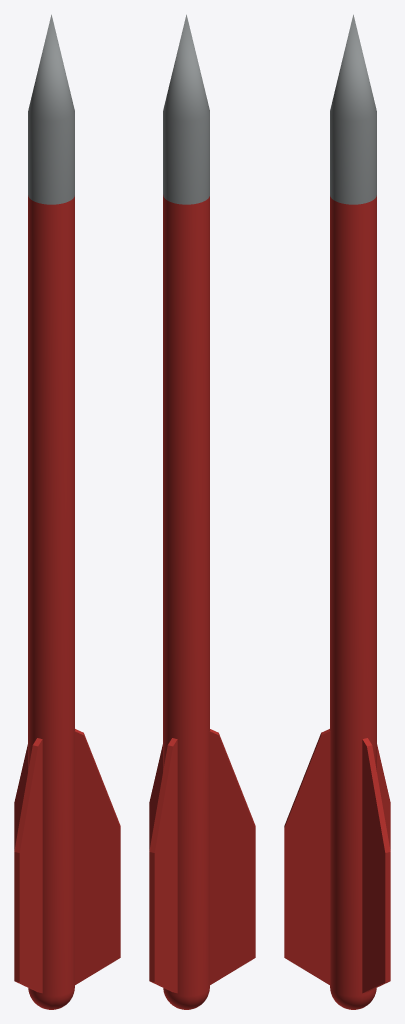
File: arrow.obj
The picture shows the model from 3 angles, left to right: view 1: azimuth 90°, elevation 25°; view 2: azimuth 210°, elevation 25°; view 3: azimuth 270°, elevation 25°; orthographic projection.
Visible parts, largest first — view 1: arrow; view 2: arrow; view 3: arrow.
Part boxes in pixels (x1,y1,x2,y2): arrow: (14, 14, 120, 1009); arrow: (149, 14, 255, 1009); arrow: (284, 14, 390, 1009).
Size of the model in its own units: 0.08 by 0.7146 by 0.0693.
Materials: 2 (2 with a texture image).
